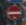No entry: (6, 5, 21, 20)
